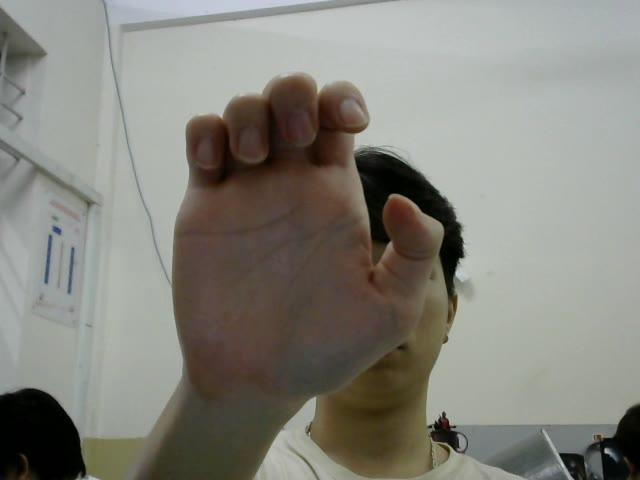E: (169, 67, 443, 400)
